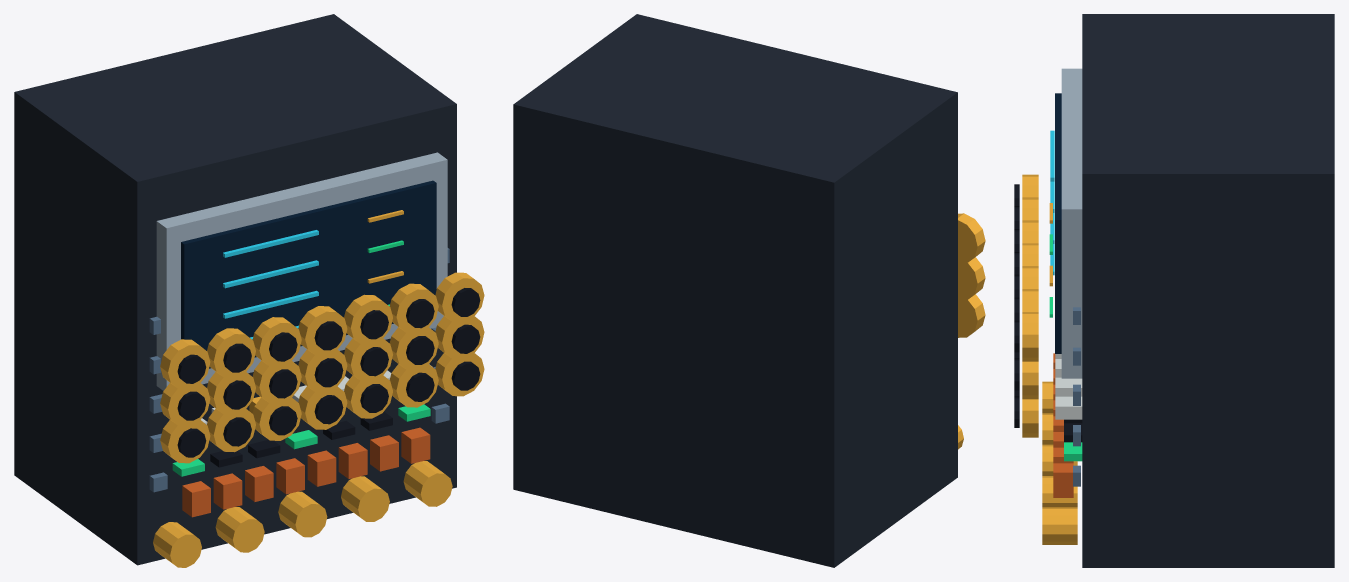
File: 75_L86_RadiatorServiceSequencingPLC.fbx
3 views of the same model, side by side, from view 1: azimuth 30°, elevation 25°; view 2: azimuth 150°, elevation 25°; view 3: azimuth 270°, elevation 25° (orthographic). The views are drawn at different scales.
Parts seen in each view (by area): view 1: L86_RadiatorServiceSequencingPLC, L86_RadiatorServiceSequencingPLC_Part_0051, L86_RadiatorServiceSequencingPLC_Part_0045, L86_RadiatorServiceSequencingPLC_Part_0039, L86_RadiatorServiceSequencingPLC_Part_0041, L86_RadiatorServiceSequencingPLC_Part_0047, L86_RadiatorServiceSequencingPLC_Part_0049, L86_RadiatorServiceSequencingPLC_Part_0043, L86_RadiatorServiceSequencingPLC_Part_0011, L86_RadiatorServiceSequencingPLC_Part_0013, L86_RadiatorServiceSequencingPLC_Part_0019, L86_RadiatorServiceSequencingPLC_Part_0015 (+31 smaller); view 2: L86_RadiatorServiceSequencingPLC, L86_RadiatorServiceSequencingPLC_Part_0039, L86_RadiatorServiceSequencingPLC_Part_0011, L86_RadiatorServiceSequencingPLC_Part_0025; view 3: L86_RadiatorServiceSequencingPLC, L86_RadiatorServiceSequencingPLC_Part_0051, L86_RadiatorServiceSequencingPLC_Part_0023, L86_RadiatorServiceSequencingPLC_Part_0037, L86_RadiatorServiceSequencingPLC_Part_0039, L86_RadiatorServiceSequencingPLC_Part_0041, L86_RadiatorServiceSequencingPLC_Part_0043.
Boxes of the visible parts, x1=… form: L86_RadiatorServiceSequencingPLC: x1=14, y1=14, x2=456, y2=567; L86_RadiatorServiceSequencingPLC_Part_0051: x1=435, y1=272, x2=484, y2=322; L86_RadiatorServiceSequencingPLC_Part_0045: x1=298, y1=306, x2=347, y2=355; L86_RadiatorServiceSequencingPLC_Part_0039: x1=160, y1=339, x2=210, y2=389; L86_RadiatorServiceSequencingPLC_Part_0041: x1=207, y1=328, x2=255, y2=378; L86_RadiatorServiceSequencingPLC_Part_0047: x1=344, y1=294, x2=392, y2=344; L86_RadiatorServiceSequencingPLC_Part_0049: x1=389, y1=283, x2=438, y2=333; L86_RadiatorServiceSequencingPLC_Part_0043: x1=252, y1=317, x2=301, y2=366; L86_RadiatorServiceSequencingPLC_Part_0011: x1=160, y1=419, x2=210, y2=463; L86_RadiatorServiceSequencingPLC_Part_0013: x1=207, y1=408, x2=255, y2=452; L86_RadiatorServiceSequencingPLC_Part_0019: x1=344, y1=374, x2=392, y2=418; L86_RadiatorServiceSequencingPLC_Part_0015: x1=252, y1=397, x2=301, y2=440; L86_RadiatorServiceSequencingPLC: x1=513, y1=14, x2=963, y2=567; L86_RadiatorServiceSequencingPLC_Part_0039: x1=958, y1=213, x2=985, y2=263; L86_RadiatorServiceSequencingPLC_Part_0011: x1=958, y1=294, x2=985, y2=337; L86_RadiatorServiceSequencingPLC_Part_0025: x1=958, y1=257, x2=985, y2=300; L86_RadiatorServiceSequencingPLC: x1=1042, y1=14, x2=1334, y2=567; L86_RadiatorServiceSequencingPLC_Part_0051: x1=1022, y1=312, x2=1038, y2=361; L86_RadiatorServiceSequencingPLC_Part_0023: x1=1022, y1=399, x2=1038, y2=437; L86_RadiatorServiceSequencingPLC_Part_0037: x1=1022, y1=361, x2=1038, y2=399; L86_RadiatorServiceSequencingPLC_Part_0039: x1=1022, y1=174, x2=1038, y2=197; L86_RadiatorServiceSequencingPLC_Part_0041: x1=1022, y1=197, x2=1038, y2=220; L86_RadiatorServiceSequencingPLC_Part_0043: x1=1022, y1=220, x2=1038, y2=243.
Bounding box in the file's own units: 97.92 × 112 × 82.84.
